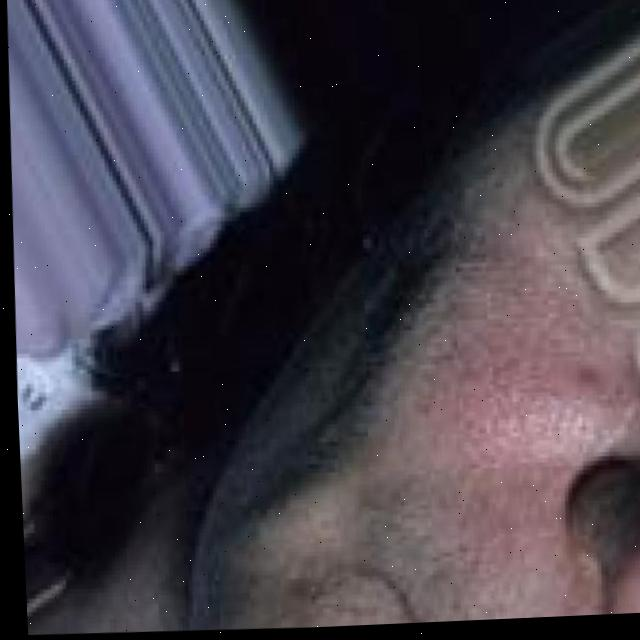Rosacea: (577, 356, 616, 414)
